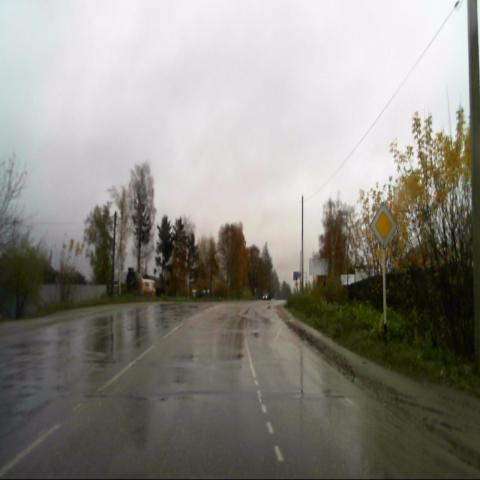2_1: (369, 201, 397, 248)
